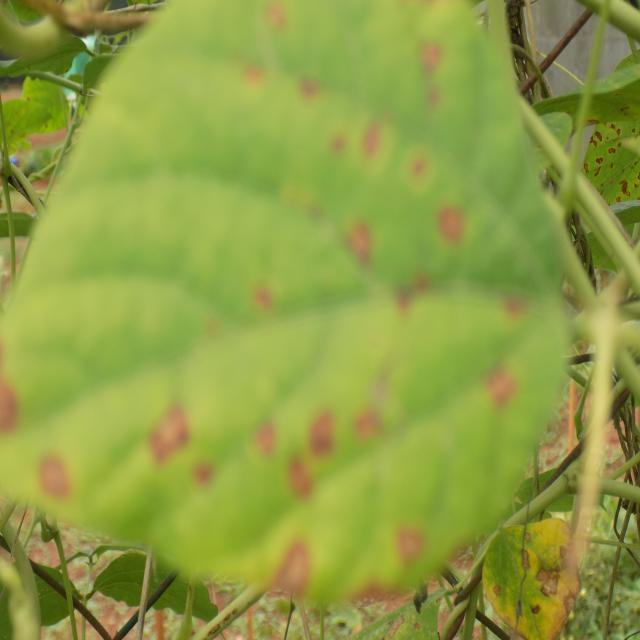Dolicos bean_cercospora leaf spot: (0, 0, 568, 603)
